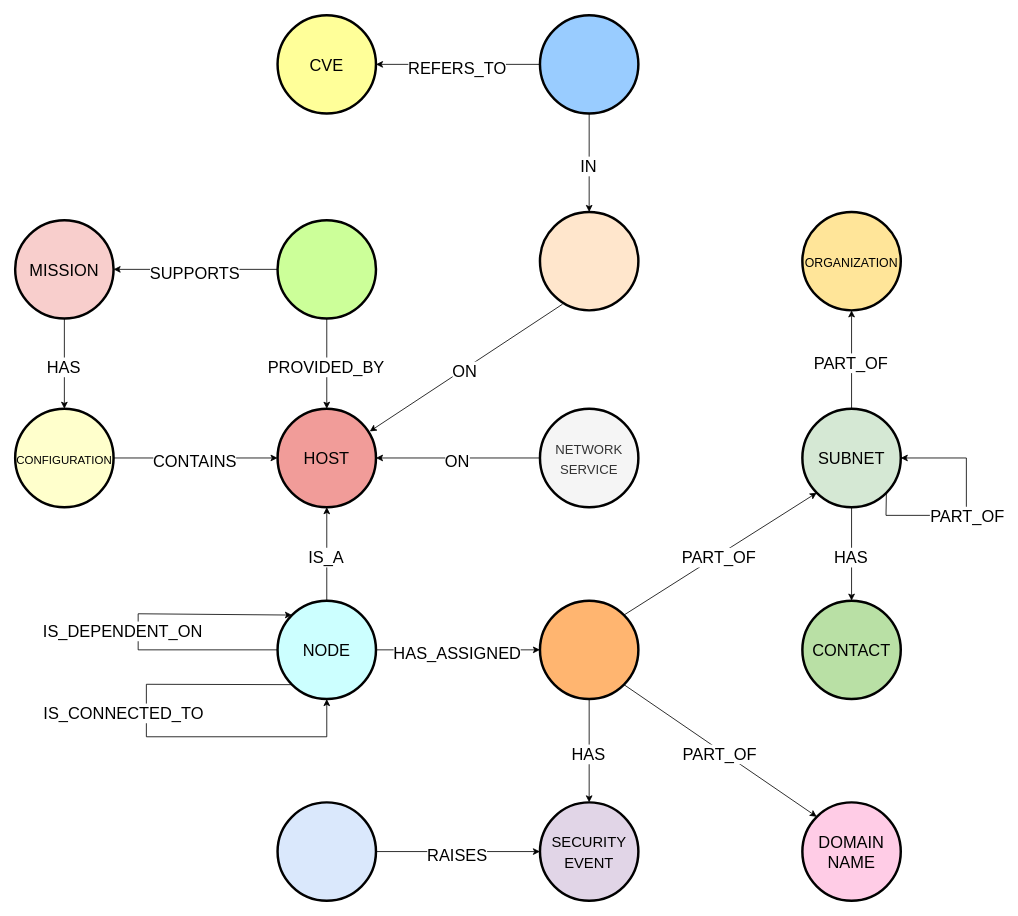
Some shapes in this 1018 by 916 pixel diagram are drawn without their labels. Here are the shapes that lost their labels. From the top down, the centre of each, then its label:
point (588, 64): VULNERABILITY
point (326, 269): COMPONENT
point (588, 260): SOFTWARE VERSION
point (588, 649): IP
point (326, 851): DETECTION SYSTEM
